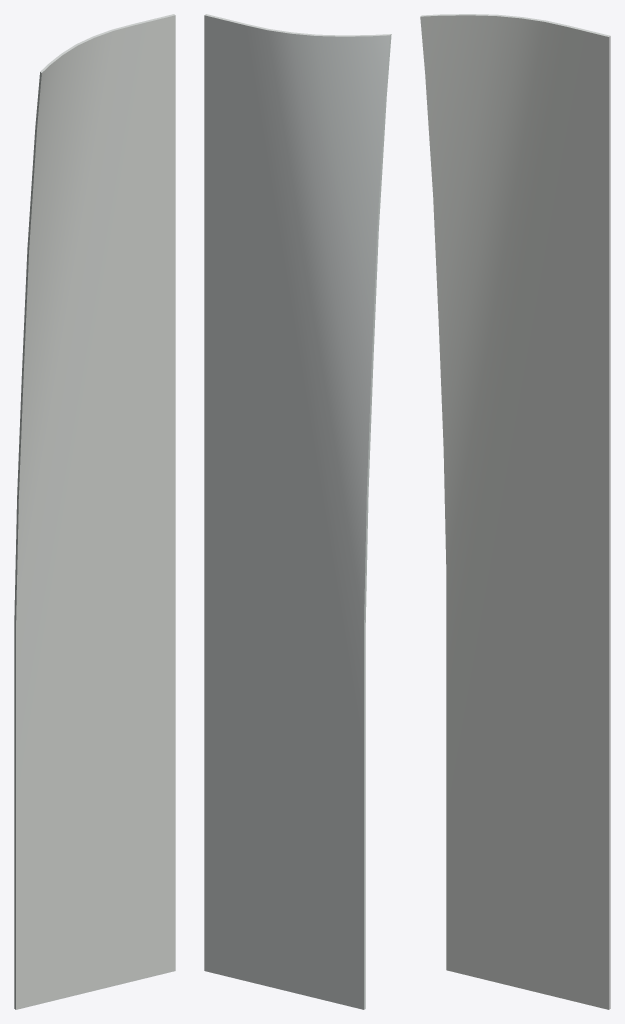
Rendered from indicator paper.glb.
3 views of the same model, side by side, from view 1: azimuth 30°, elevation 25°; view 2: azimuth 150°, elevation 25°; view 3: azimuth 330°, elevation 25° (orthographic).
Visible parts, largest first — view 1: node_id5; view 2: node_id5; view 3: node_id5.
Boxes of the visible parts, x1,y1,x2,y2 form: node_id5: [14, 14, 175, 1009]; node_id5: [204, 14, 391, 1009]; node_id5: [420, 14, 610, 1009].
Size of the model in its own units: 0.0406 by 0.2324 by 0.0121.
1 material, 1 textured.
